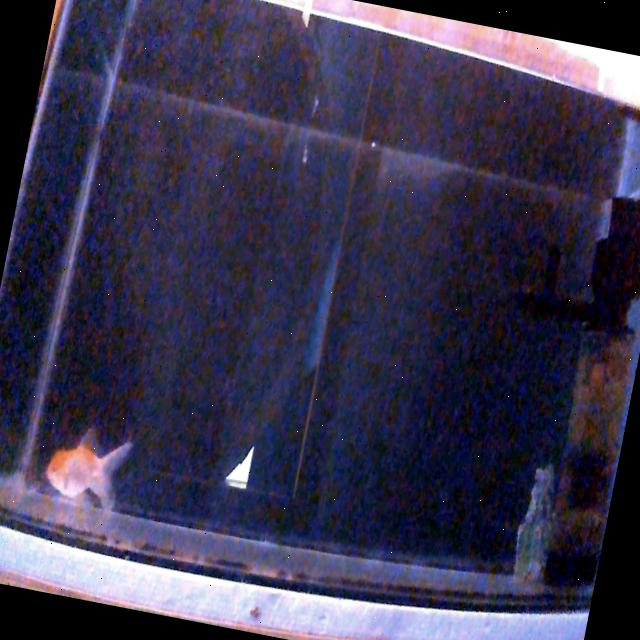fish: (41, 421, 134, 512)
